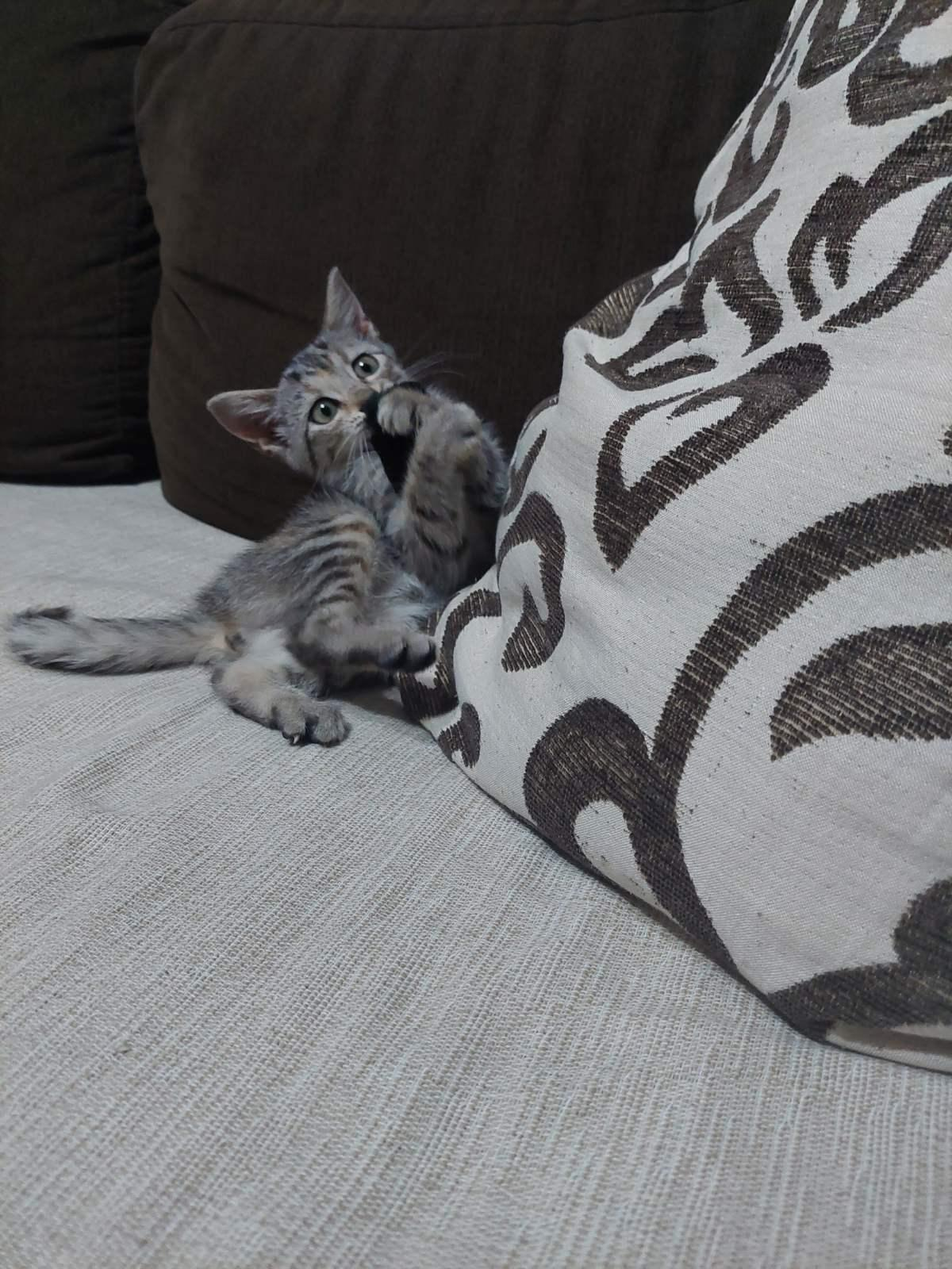macka: (15, 271, 502, 751)
